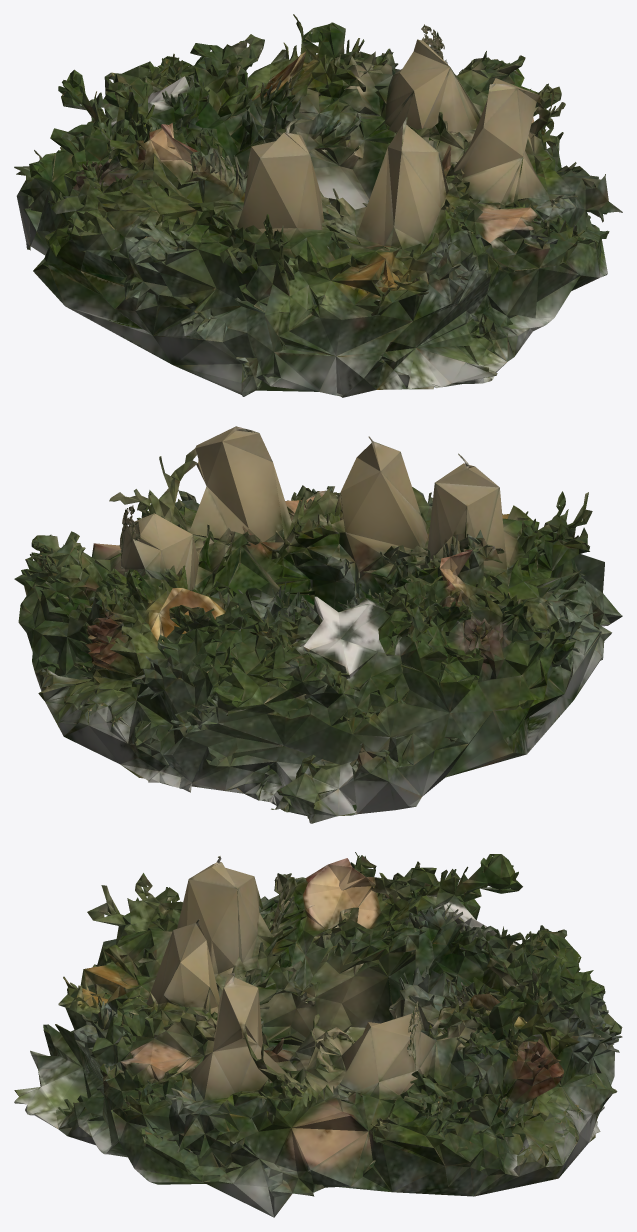
3 renders of one model, top to bottom at view 1: azimuth 30°, elevation 25°; view 2: azimuth 150°, elevation 25°; view 3: azimuth 270°, elevation 25°, orthographic.
Visible parts, largest first — view 1: Adventskranz Roscher_27k_1k; view 2: Adventskranz Roscher_27k_1k; view 3: Adventskranz Roscher_27k_1k.
Part boxes in pixels (x1=…): Adventskranz Roscher_27k_1k: x1=14, y1=14, x2=622, y2=397; Adventskranz Roscher_27k_1k: x1=14, y1=426, x2=622, y2=823; Adventskranz Roscher_27k_1k: x1=14, y1=852, x2=622, y2=1217.
Bounding box in the file's own units: 0.42 × 0.1701 × 0.4312.
1 material, 1 textured.
